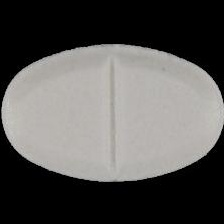68788-9091: (0, 0, 224, 224)
